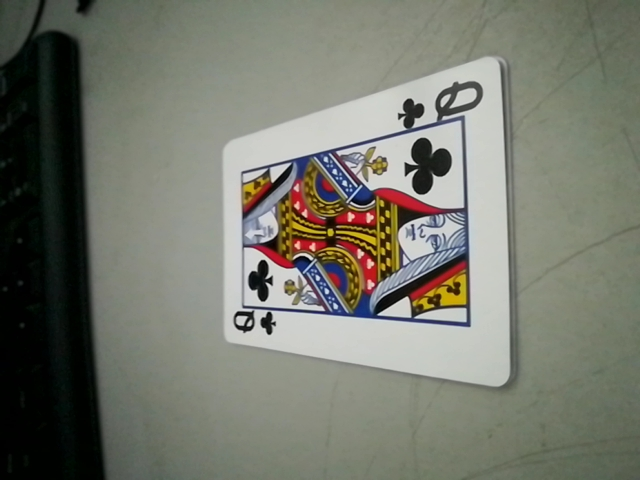mh q: (395, 78, 493, 131), (224, 302, 285, 343)
